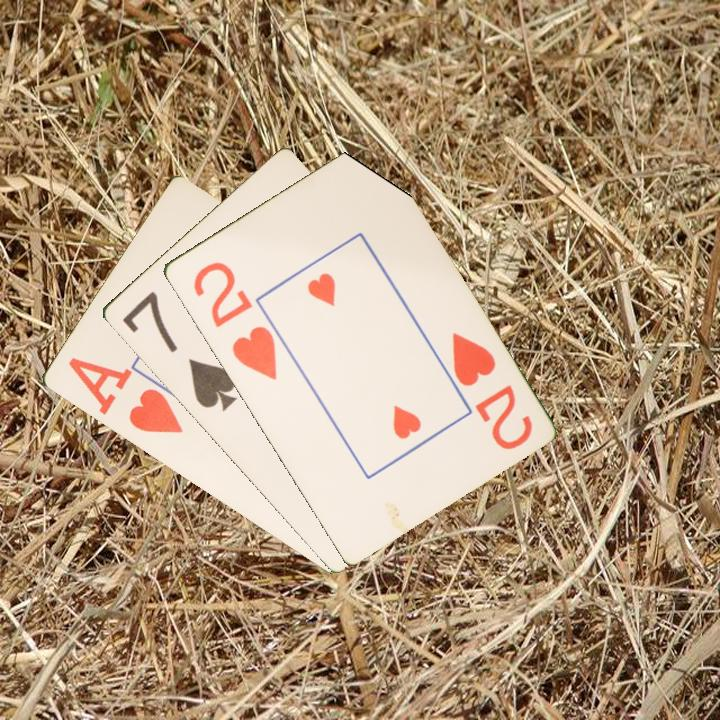2h: (189, 257, 280, 383), (447, 328, 535, 453)
7s: (118, 287, 239, 415)
Ah: (64, 354, 186, 437)
